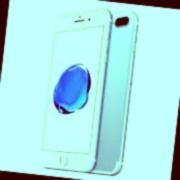samsung: (77, 7, 154, 172)
